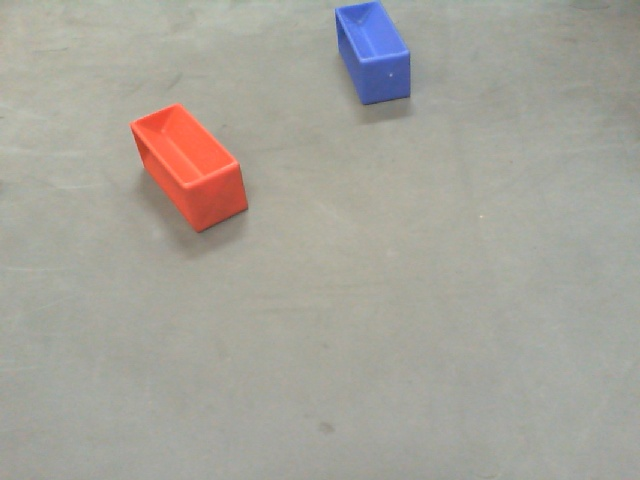BlueSample: (331, 1, 415, 109)
RedSample: (128, 100, 251, 234)
